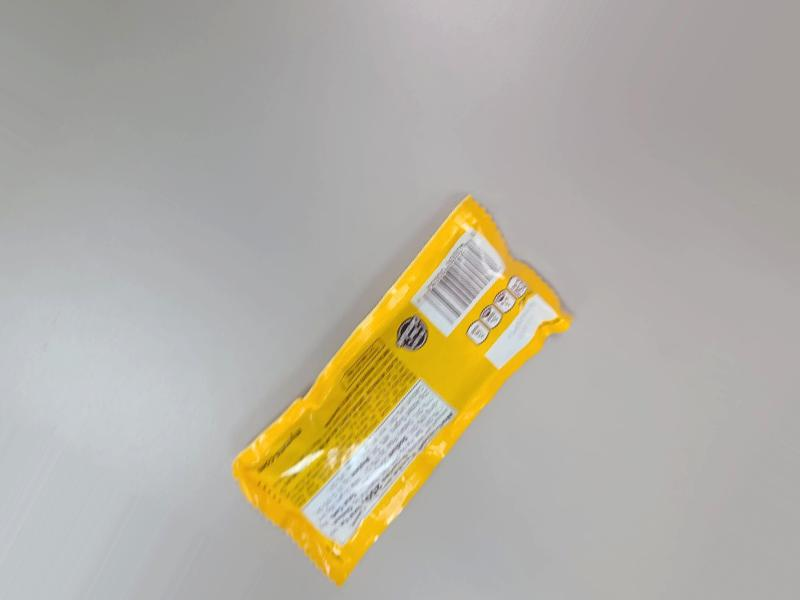m&m: (239, 195, 563, 582)
